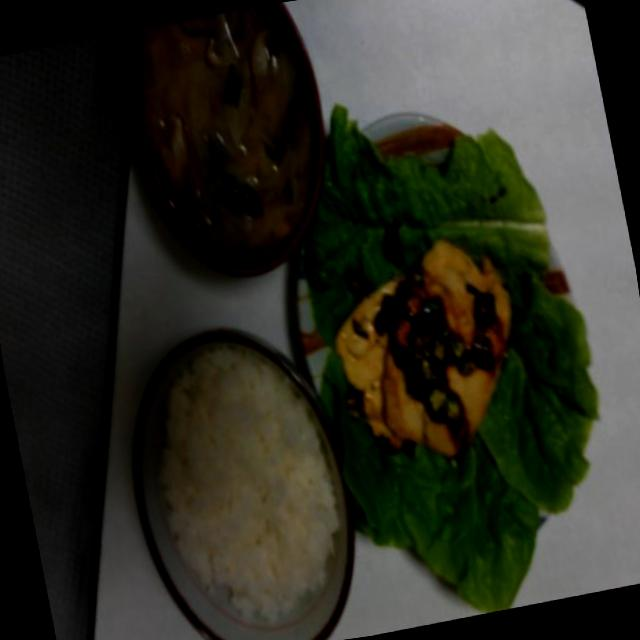Rice: (133, 341, 356, 640)
